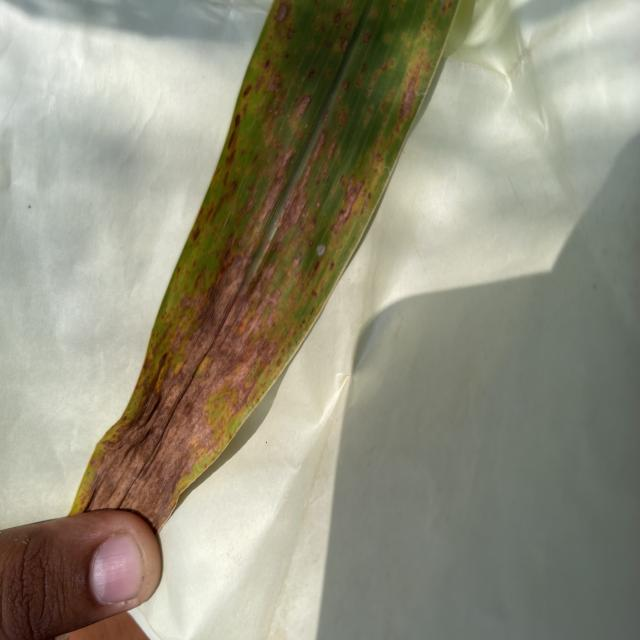millet_rust: (68, 0, 466, 542)
